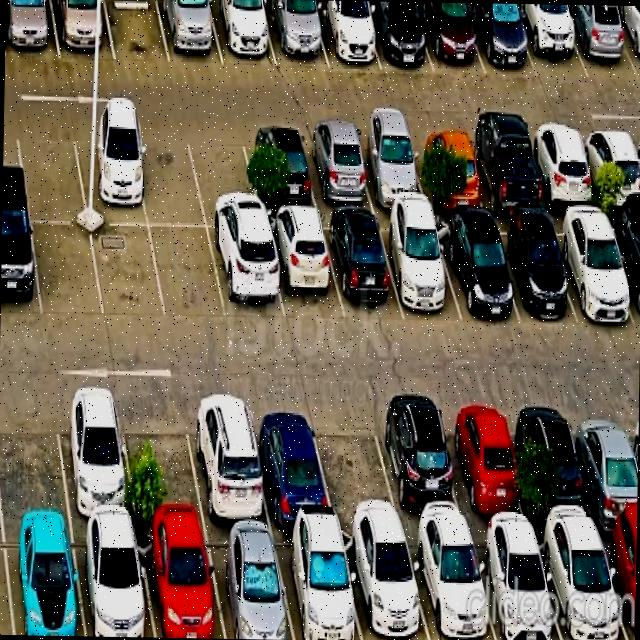empty: (310, 401, 401, 529), (118, 394, 205, 525), (0, 392, 69, 522), (185, 127, 262, 228), (132, 127, 205, 225), (91, 225, 165, 321), (149, 227, 226, 319), (15, 123, 87, 221), (31, 223, 103, 317), (104, 0, 169, 62)
occupied: (371, 400, 468, 530), (439, 400, 529, 531), (184, 394, 271, 527), (247, 398, 334, 525), (53, 391, 136, 523), (514, 399, 597, 530), (534, 529, 627, 640), (203, 528, 294, 640), (470, 531, 561, 640), (405, 531, 496, 640), (272, 530, 362, 640), (340, 530, 429, 640), (136, 527, 224, 638), (548, 214, 636, 321), (72, 524, 154, 637), (3, 524, 84, 636), (568, 400, 637, 529), (488, 219, 575, 321), (433, 219, 519, 322), (377, 217, 461, 321), (321, 215, 403, 318), (264, 215, 343, 321), (71, 125, 147, 225), (208, 230, 284, 320), (465, 130, 545, 213), (241, 128, 318, 210), (409, 130, 486, 210), (352, 128, 427, 208), (300, 128, 374, 209), (560, 4, 638, 79), (512, 3, 588, 79), (526, 129, 598, 208), (467, 3, 537, 76), (362, 1, 433, 71), (416, 2, 485, 73), (578, 128, 640, 207), (311, 0, 380, 69), (208, 0, 276, 65), (598, 528, 636, 640), (157, 0, 222, 65), (263, 0, 327, 65), (0, 217, 41, 317), (605, 214, 640, 326), (50, 0, 114, 59), (5, 0, 59, 58), (611, 5, 640, 78)
